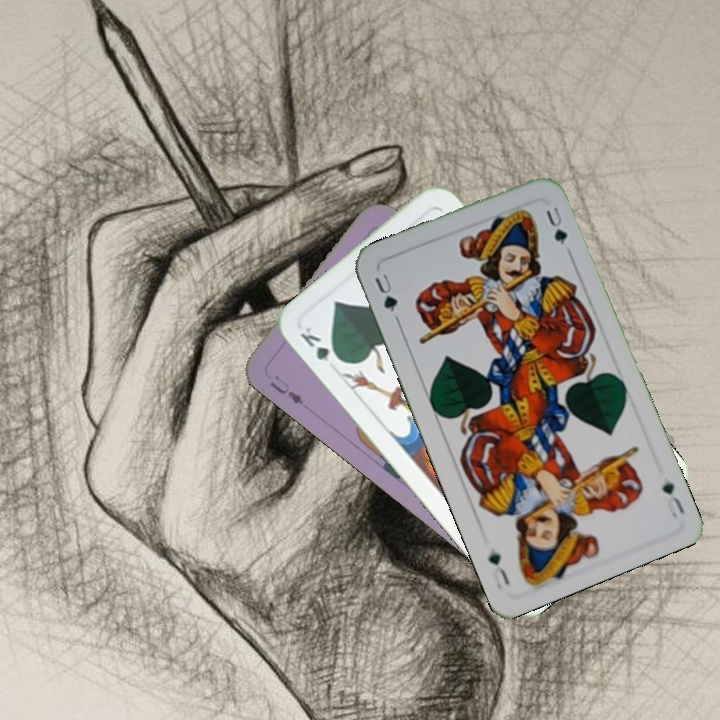EU: (265, 374, 306, 408)
GK: (295, 323, 345, 366)
GU: (370, 269, 400, 315), (658, 476, 689, 520)
